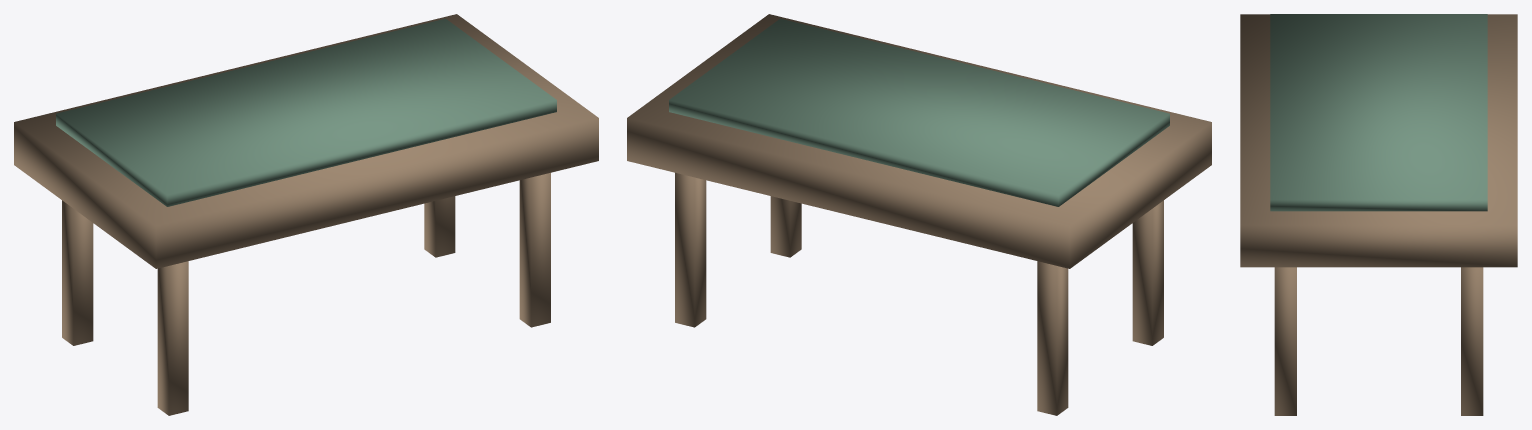
Rendered from pool_table__tall.glb.
3 views of the same model, side by side, from view 1: azimuth 30°, elevation 25°; view 2: azimuth 150°, elevation 25°; view 3: azimuth 270°, elevation 25° (orthographic). The views are drawn at different scales.
Parts seen in each view (by area): view 1: world; view 2: world; view 3: world.
Part boxes in pixels (x1=…): world: x1=14, y1=14, x2=598, y2=415; world: x1=627, y1=14, x2=1211, y2=415; world: x1=1240, y1=14, x2=1517, y2=415.
Bounding box in the file's own units: 2.25 × 1.08 × 1.25.
